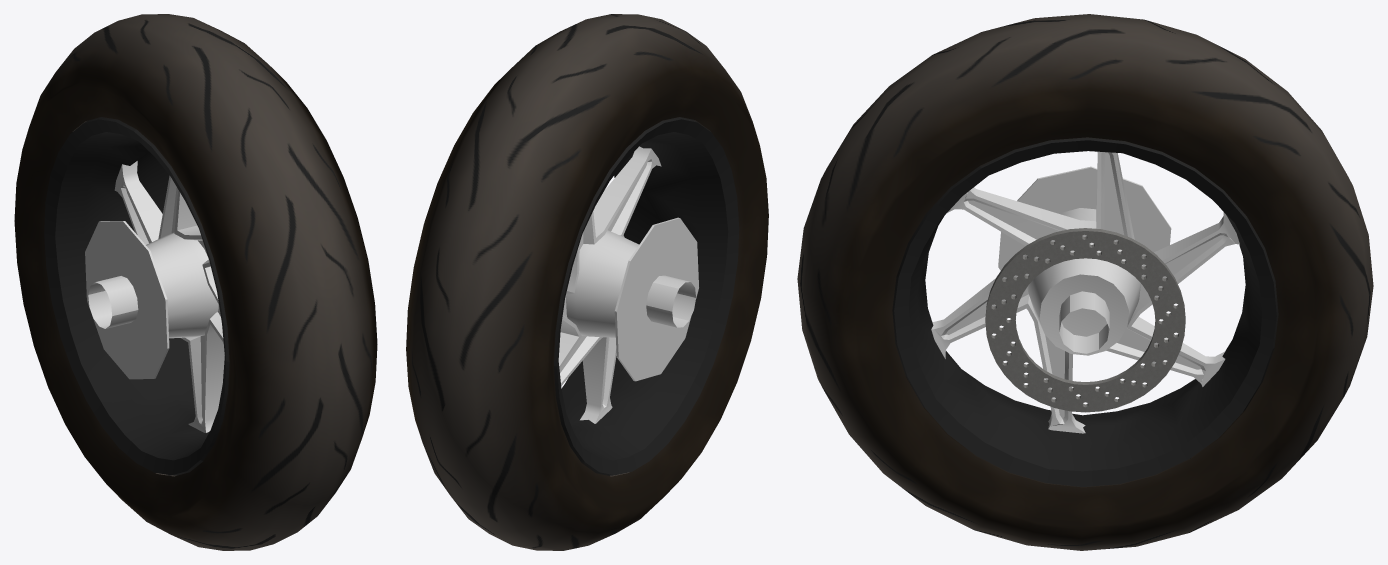
Rendered from RearTyre.fbx.
3 views of the same model, side by side, from view 1: azimuth 30°, elevation 25°; view 2: azimuth 150°, elevation 25°; view 3: azimuth 270°, elevation 25° (orthographic). The views are drawn at different scales.
Parts seen in each view (by area): view 1: RearTyre; view 2: RearTyre; view 3: RearTyre.
Part boxes in pixels (x1=…): RearTyre: x1=14, y1=14, x2=377, y2=550; RearTyre: x1=406, y1=14, x2=768, y2=550; RearTyre: x1=797, y1=14, x2=1373, y2=550.
Size of the model in its own units: 68.03 by 168 by 168.
3 materials, 2 textured.
